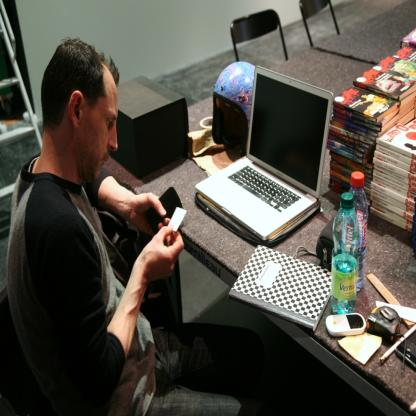Helmet: (212, 59, 260, 145)
